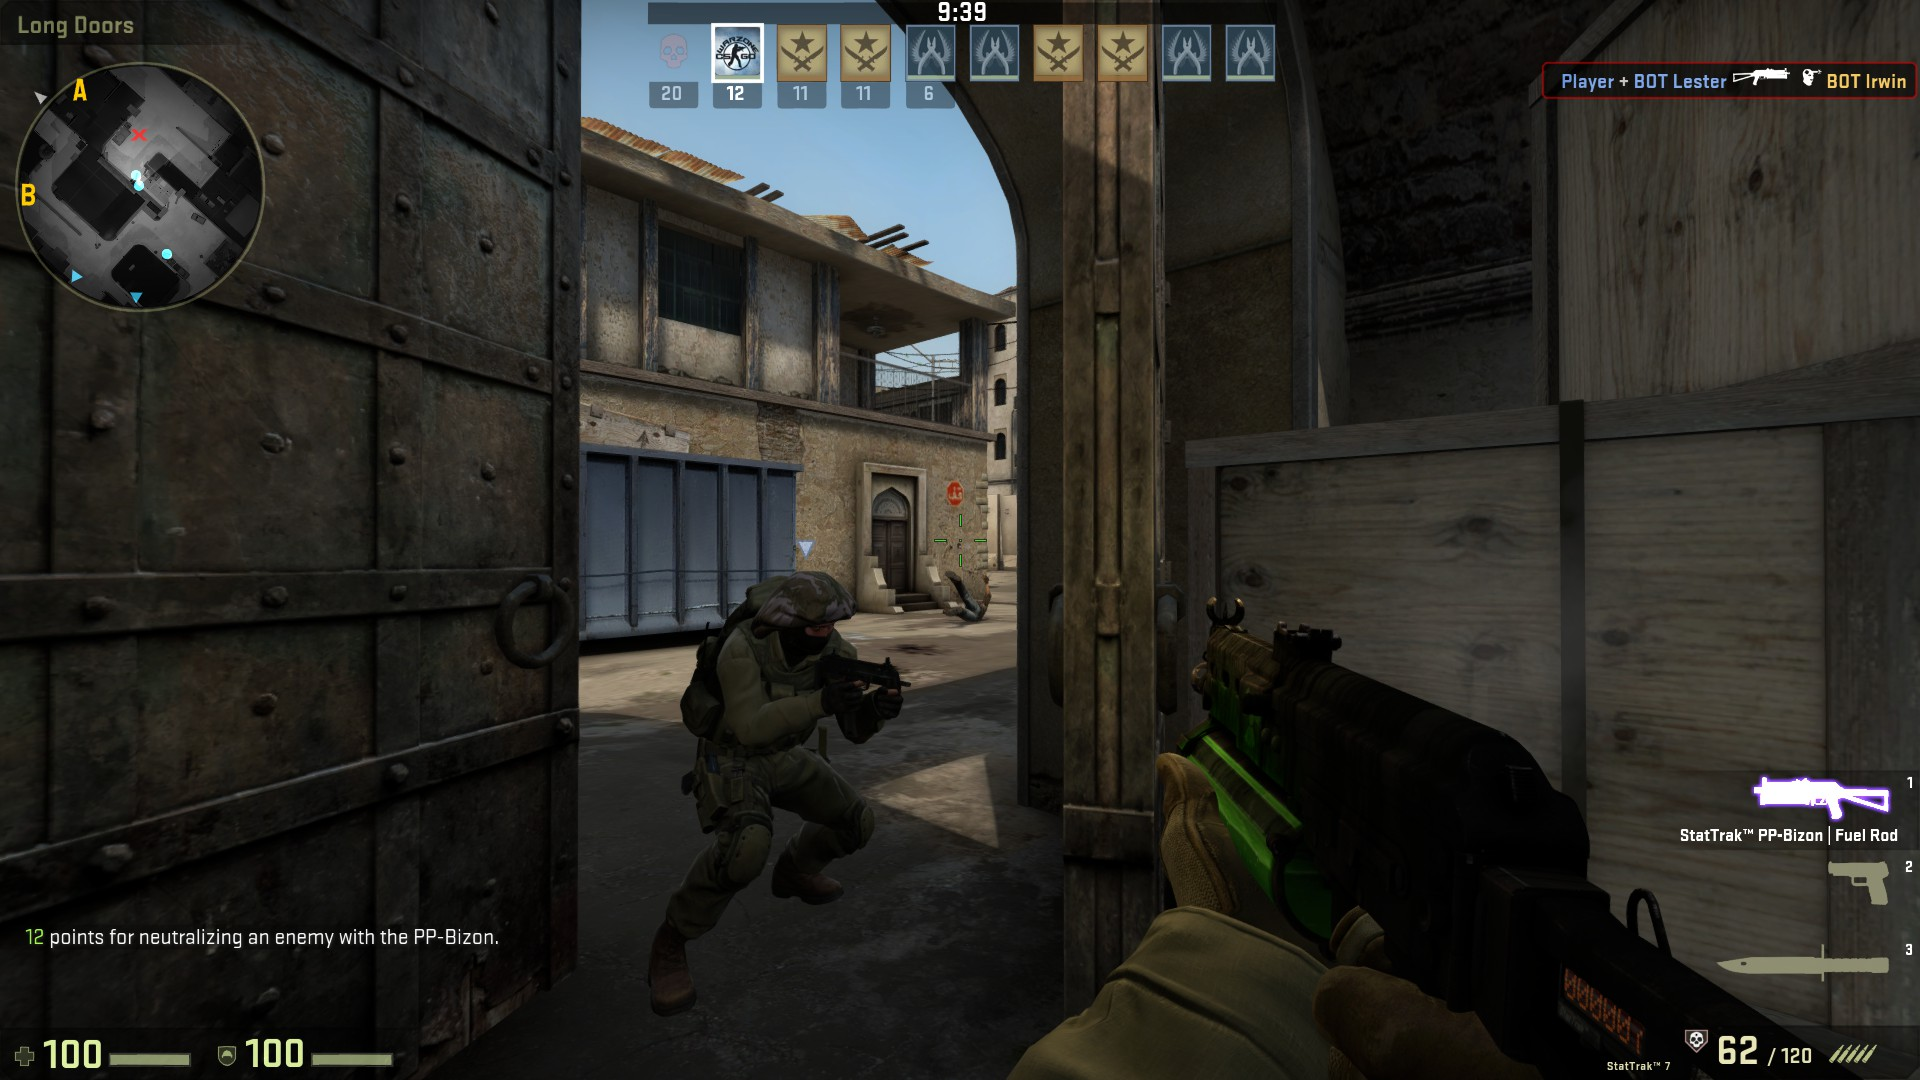c: (654, 554, 881, 977)
ch: (738, 560, 851, 654)
